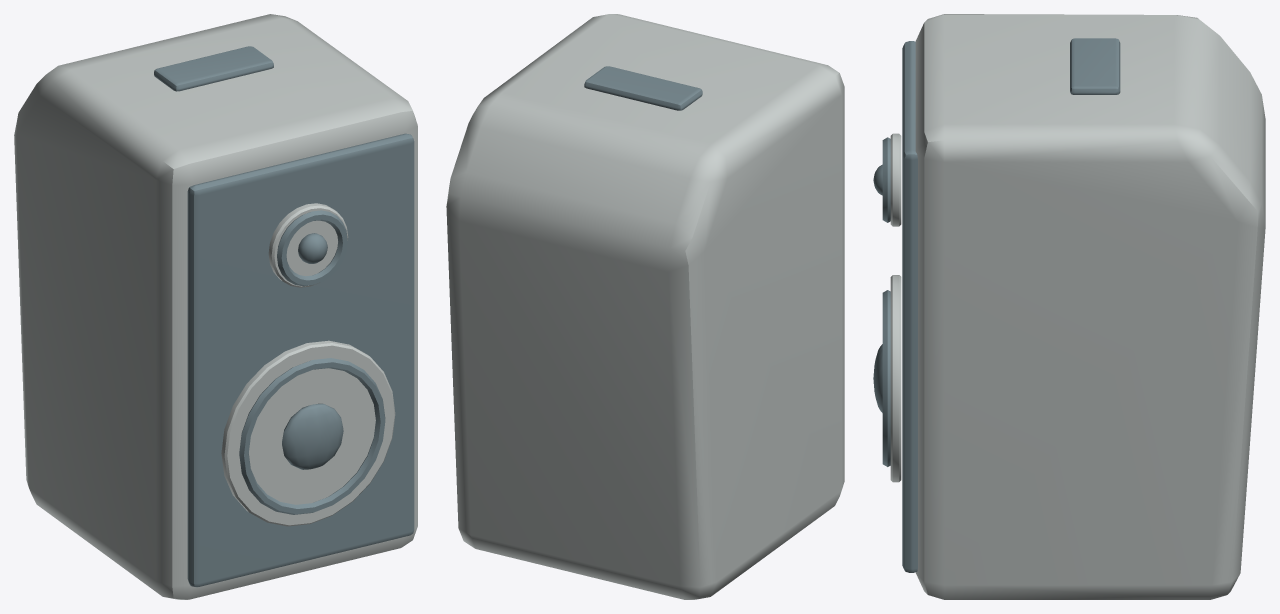
The model's file is pa-speaker.glb.
3 views of the same model, side by side, from view 1: azimuth 30°, elevation 25°; view 2: azimuth 150°, elevation 25°; view 3: azimuth 270°, elevation 25° (orthographic). The views are drawn at different scales.
Visible parts, largest first — view 1: speaker_cabinet, front_grille, driver, speaker_surround, dust_cap, top_handle, driver.001, speaker_surround.001, dust_cap.001; view 2: speaker_cabinet, top_handle; view 3: speaker_cabinet, front_grille, top_handle, driver, speaker_surround, driver.001, speaker_surround.001.
Boxes of the visible parts, x1=… form: speaker_cabinet: x1=14, y1=14, x2=417, y2=599; front_grille: x1=187, y1=133, x2=414, y2=587; driver: x1=221, y1=340, x2=395, y2=526; speaker_surround: x1=239, y1=358, x2=385, y2=514; dust_cap: x1=282, y1=403, x2=343, y2=469; top_handle: x1=154, y1=46, x2=273, y2=91; driver.001: x1=268, y1=203, x2=348, y2=287; speaker_surround.001: x1=277, y1=210, x2=347, y2=286; dust_cap.001: x1=298, y1=233, x2=327, y2=263; speaker_cabinet: x1=446, y1=14, x2=844, y2=599; top_handle: x1=584, y1=66, x2=702, y2=110; speaker_cabinet: x1=915, y1=14, x2=1265, y2=599; front_grille: x1=902, y1=41, x2=917, y2=572; top_handle: x1=1070, y1=38, x2=1120, y2=94; driver: x1=890, y1=275, x2=901, y2=482; speaker_surround: x1=882, y1=290, x2=890, y2=466; driver.001: x1=890, y1=133, x2=901, y2=226; speaker_surround.001: x1=882, y1=137, x2=890, y2=222.
Size of the model in its own units: 0.44 by 0.7415 by 0.5464.
